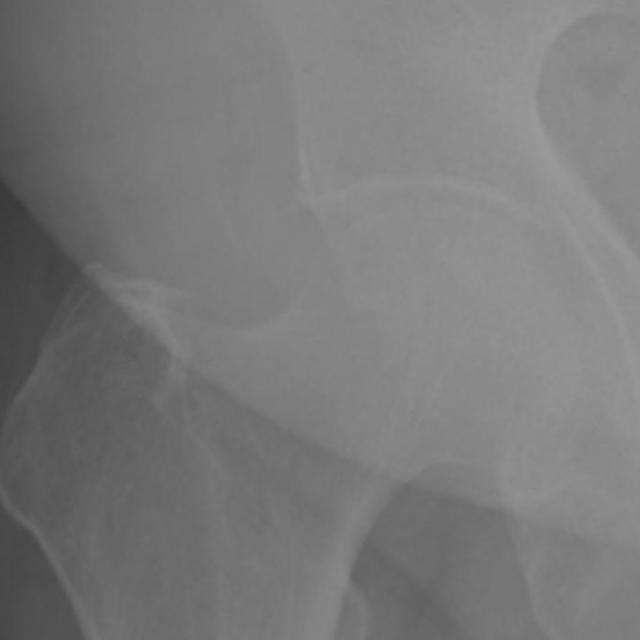Fitted_femural_head: (294, 201, 432, 294)
